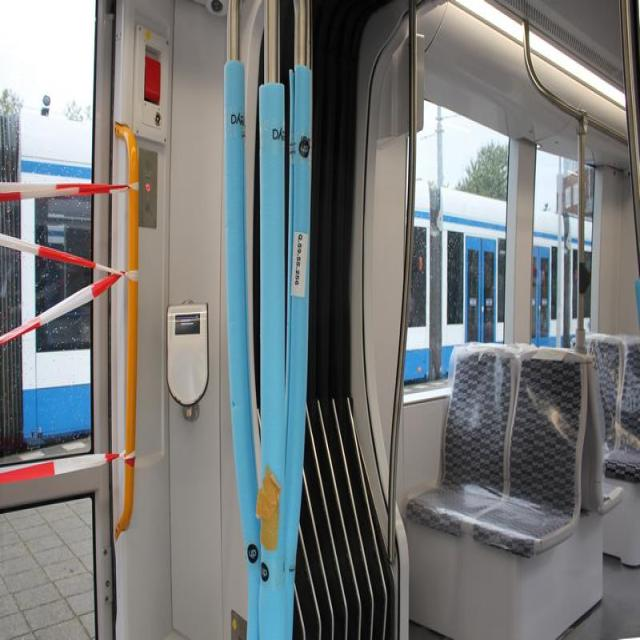empty-seat-frontal: (472, 345, 588, 556), (404, 342, 520, 546)
